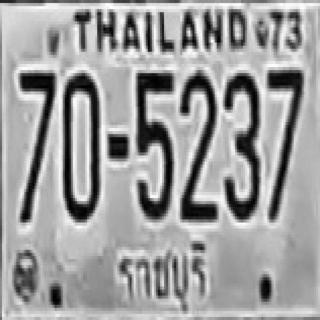N00: (61, 70, 99, 219)
N02: (178, 72, 217, 218), (179, 69, 216, 209)
N03: (223, 70, 259, 216)
N05: (136, 70, 172, 216)
N07: (265, 67, 302, 220), (18, 69, 55, 218)
P52: (114, 235, 208, 314)
